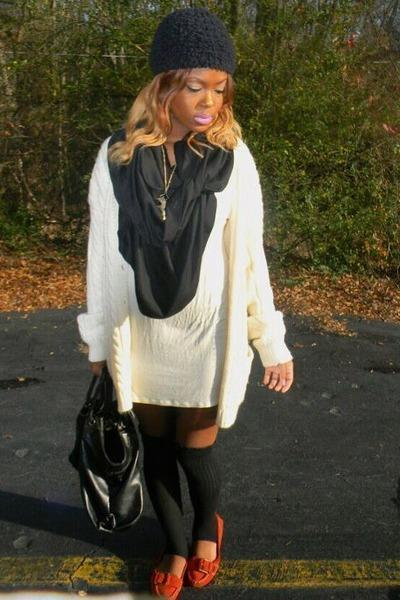bag: (56, 361, 147, 557)
hat: (145, 0, 239, 83)
jacket: (77, 138, 292, 427)
shoe: (137, 541, 219, 599)
skirt: (163, 156, 175, 191)
